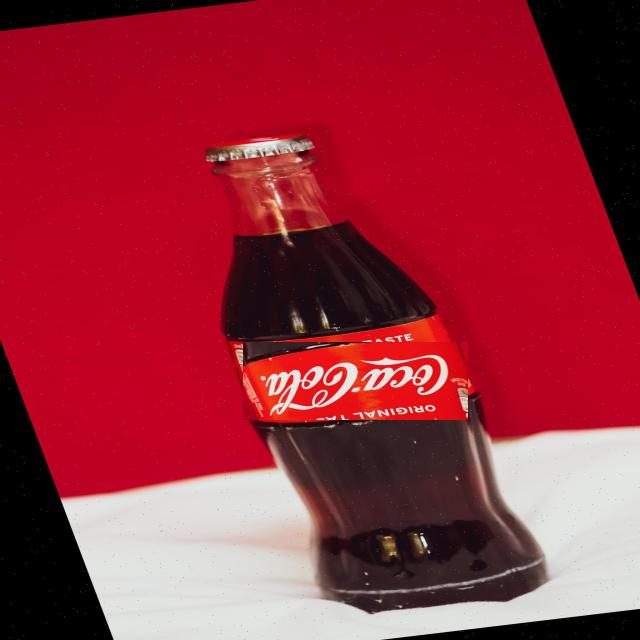coca-cola: (243, 342, 468, 420)
